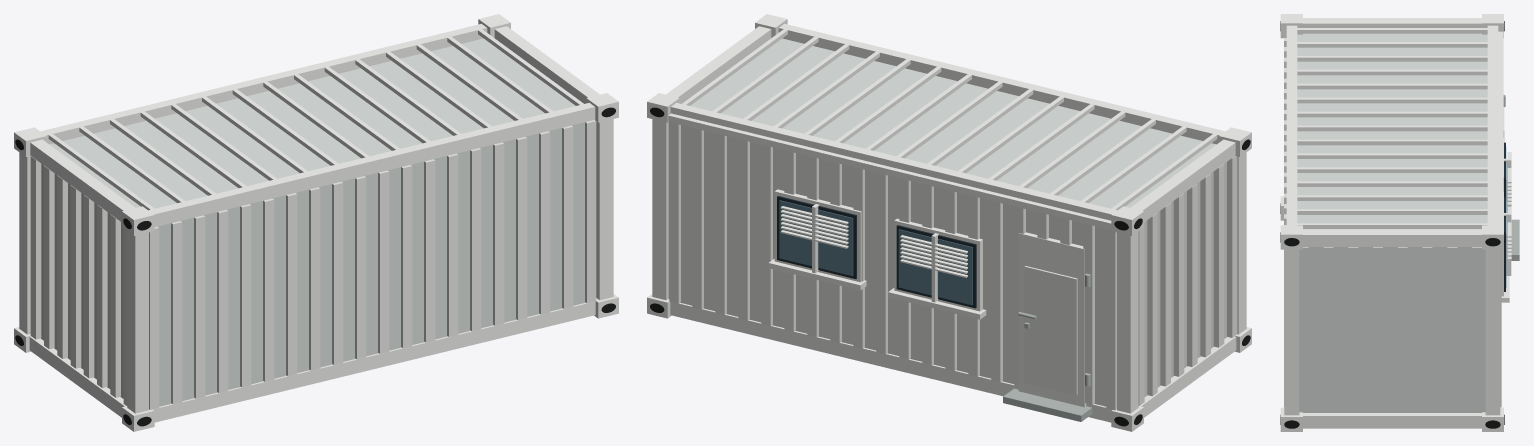
Rendered from buero-container.glb.
3 renders of one model, left to right at view 1: azimuth 30°, elevation 25°; view 2: azimuth 150°, elevation 25°; view 3: azimuth 270°, elevation 25°, orthographic. The views are drawn at different scales.
Parts seen in each view (by area): view 1: back-smooth-office-wall, insulated-office-container-shell, top-right-side-rail, bottom-right-side-rail, top-left-side-rail, vertical-corner-post.001, vertical-corner-post.003, top-back-rail, front-smooth-office-wall.039, front-smooth-office-wall.044, front-smooth-office-wall.046, front-smooth-office-wall.049 (+44 smaller); view 2: insulated-office-container-shell, front-smooth-office-wall, door-grey-inner-panel, top-right-side-rail, top-left-side-rail, bottom-left-side-rail, full-height-office-entry-door, front-gutter-channel, vertical-corner-post, left-office-window-dark-window-reveal, right-office-window-dark-window-reveal, vertical-corner-post.002 (+54 smaller); view 3: insulated-office-container-shell, top-front-rail, bottom-front-rail, vertical-corner-post.003, vertical-corner-post.002, top-left-side-rail, top-right-side-rail, top-back-rail, roof-cross-corrugation.006, roof-cross-corrugation.007, roof-cross-corrugation.008, roof-cross-corrugation.009 (+20 smaller).
Boxes of the visible parts, left/top/right/bottom form: back-smooth-office-wall: left=158, top=122, right=585, bottom=406; insulated-office-container-shell: left=41, top=38, right=575, bottom=398; top-right-side-rail: left=148, top=102, right=595, bottom=226; bottom-right-side-rail: left=153, top=301, right=595, bottom=422; top-left-side-rail: left=40, top=23, right=487, bottom=144; vertical-corner-post.001: left=127, top=231, right=148, bottom=413; vertical-corner-post.003: left=596, top=119, right=613, bottom=299; top-back-rail: left=30, top=139, right=135, bottom=222; front-smooth-office-wall.039: left=194, top=215, right=205, bottom=398; front-smooth-office-wall.044: left=309, top=187, right=320, bottom=370; front-smooth-office-wall.046: left=355, top=176, right=366, bottom=359; front-smooth-office-wall.049: left=424, top=159, right=435, bottom=342; insulated-office-container-shell: left=690, top=38, right=1226, bottom=396; front-smooth-office-wall: left=668, top=122, right=1106, bottom=406; door-grey-inner-panel: left=1024, top=266, right=1077, bottom=395; top-right-side-rail: left=778, top=23, right=1225, bottom=144; top-left-side-rail: left=670, top=102, right=1117, bottom=220; bottom-left-side-rail: left=670, top=302, right=1112, bottom=422; full-height-office-entry-door: left=1018, top=232, right=1086, bottom=407; front-gutter-channel: left=668, top=113, right=1111, bottom=229; vertical-corner-post: left=1117, top=231, right=1138, bottom=413; left-office-window-dark-window-reveal: left=896, top=225, right=976, bottom=308; right-office-window-dark-window-reveal: left=777, top=196, right=856, bottom=278; vertical-corner-post.002: left=652, top=119, right=668, bottom=299; insulated-office-container-shell: left=1297, top=33, right=1487, bottom=412; top-front-rail: left=1303, top=229, right=1481, bottom=246; bottom-front-rail: left=1303, top=413, right=1481, bottom=428; vertical-corner-post.003: left=1284, top=249, right=1299, bottom=415; vertical-corner-post.002: left=1485, top=249, right=1500, bottom=415; top-left-side-rail: left=1487, top=25, right=1498, bottom=225; top-right-side-rail: left=1286, top=25, right=1297, bottom=225; top-back-rail: left=1303, top=18, right=1481, bottom=27; roof-cross-corrugation.006: left=1297, top=139, right=1487, bottom=145; roof-cross-corrugation.007: left=1297, top=125, right=1487, bottom=131; roof-cross-corrugation.008: left=1297, top=111, right=1487, bottom=117; roof-cross-corrugation.009: left=1297, top=97, right=1487, bottom=103.
Bounding box in the file's own units: 6.34 × 2.64 × 2.91.
